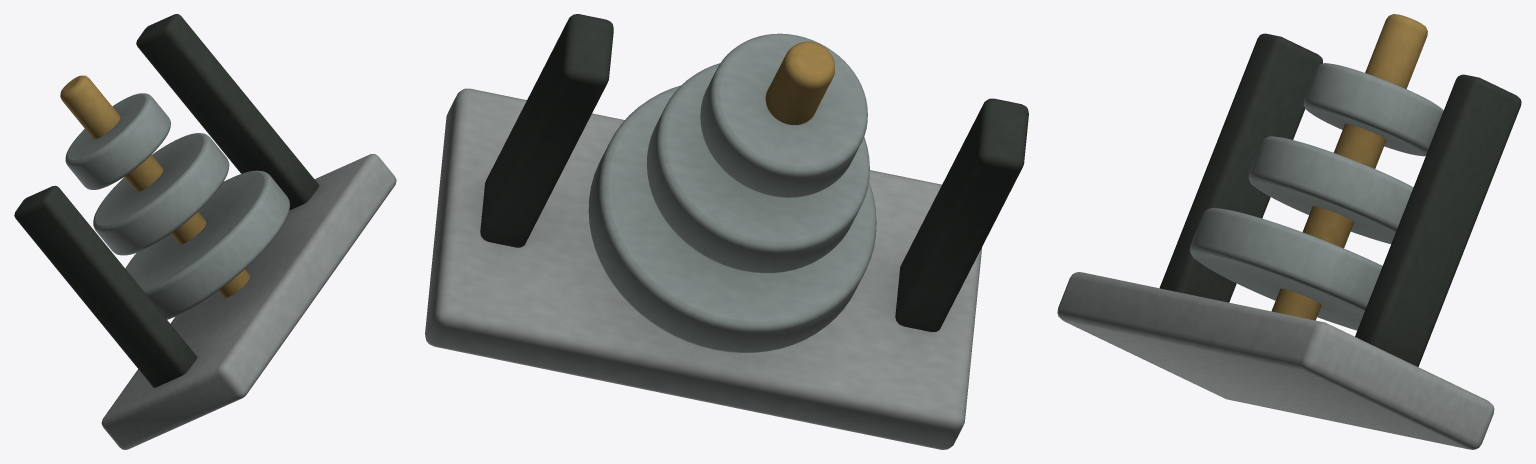
The picture shows the model from 3 angles, left to right: view 1: azimuth 30°, elevation 25°; view 2: azimuth 150°, elevation 25°; view 3: azimuth 270°, elevation 25°; orthographic projection. The views are drawn at different scales.
Visible parts, largest first — view 1: Bolted mechanical base; view 2: Bolted mechanical base; view 3: Bolted mechanical base.
Boxes of the visible parts, box(x1,y1,x2,y2) form: Bolted mechanical base: box(14, 14, 396, 449); Bolted mechanical base: box(425, 14, 1028, 449); Bolted mechanical base: box(1057, 14, 1521, 449).
Size of the model in its own units: 1.38 by 1.12 by 1.14.
Materials: 1 (1 with a texture image).
